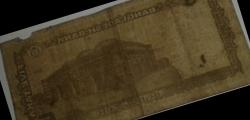5 taka: (15, 1, 234, 119)
